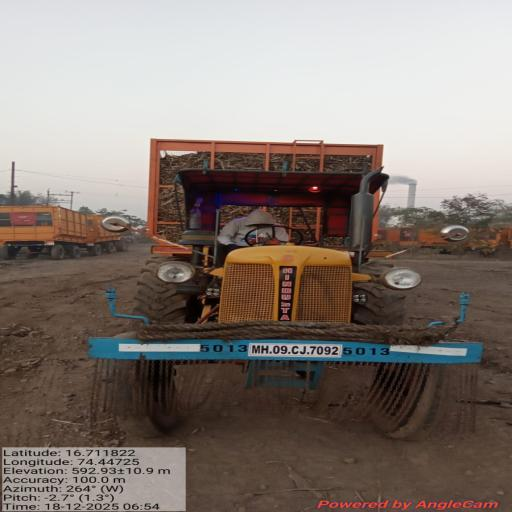number_plate: (249, 344, 342, 358)
